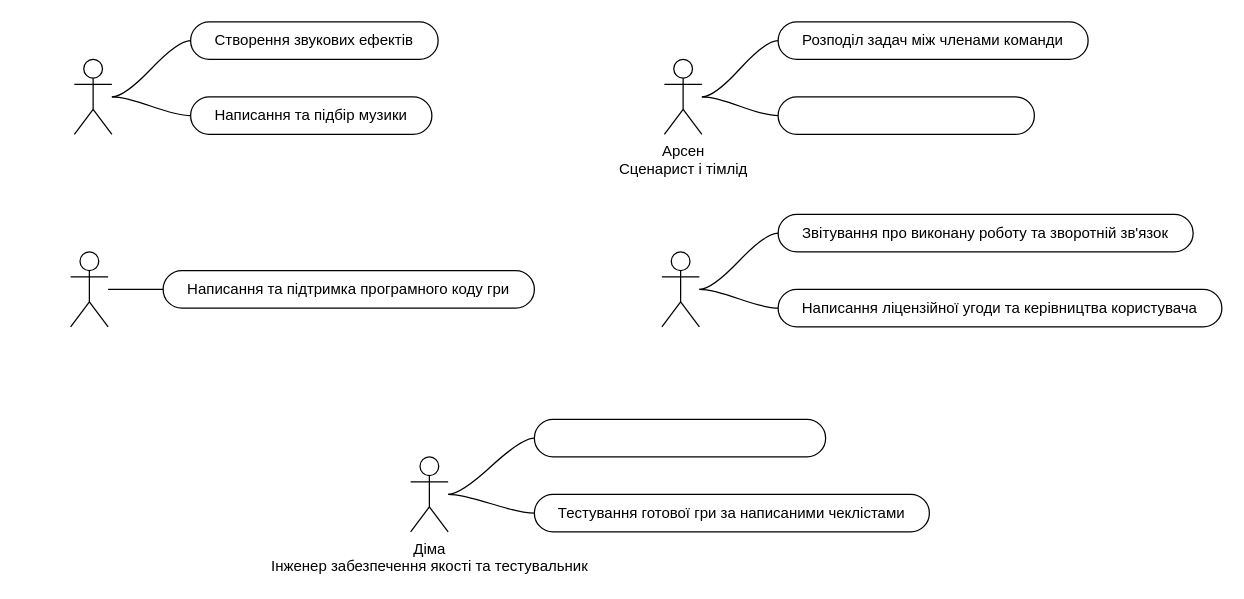
This 1244x599 diagram has some shape labels left out. Each missing label, with the box of its shape:
Артем Проджект менеджер: (661, 251, 699, 327)
Віталій Звуковий інженер: (73, 58, 112, 134)
Денис Інженер-програміст: (69, 251, 108, 327)
Розробка ідеї та сценарію гри: (777, 96, 1034, 134)
Створення тест-планів та чеклістів: (533, 418, 826, 457)
